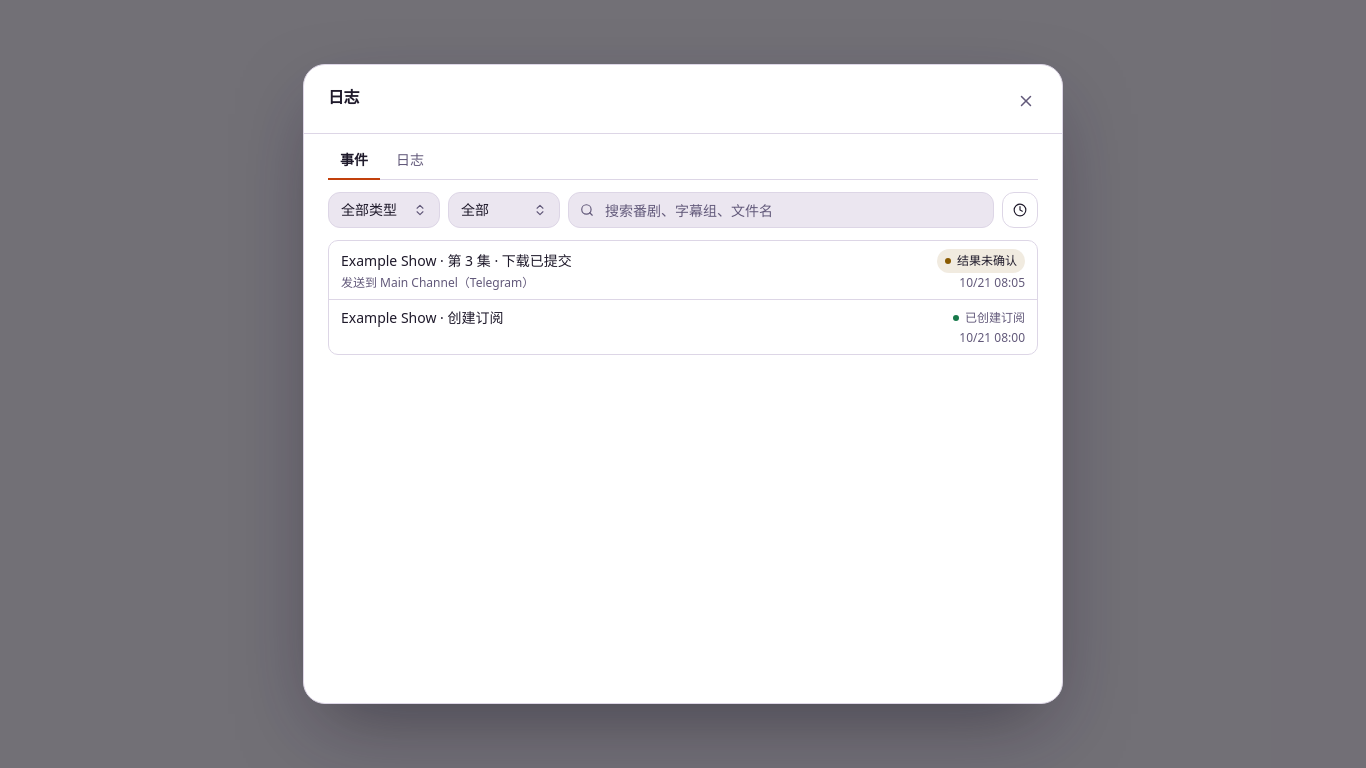
LogDialog › opens a compact delivery detail with the target name and rendered message
Click the button with aria-label "打开发送详情：下载已提交" at (456, 260), box [329,241,1037,299]
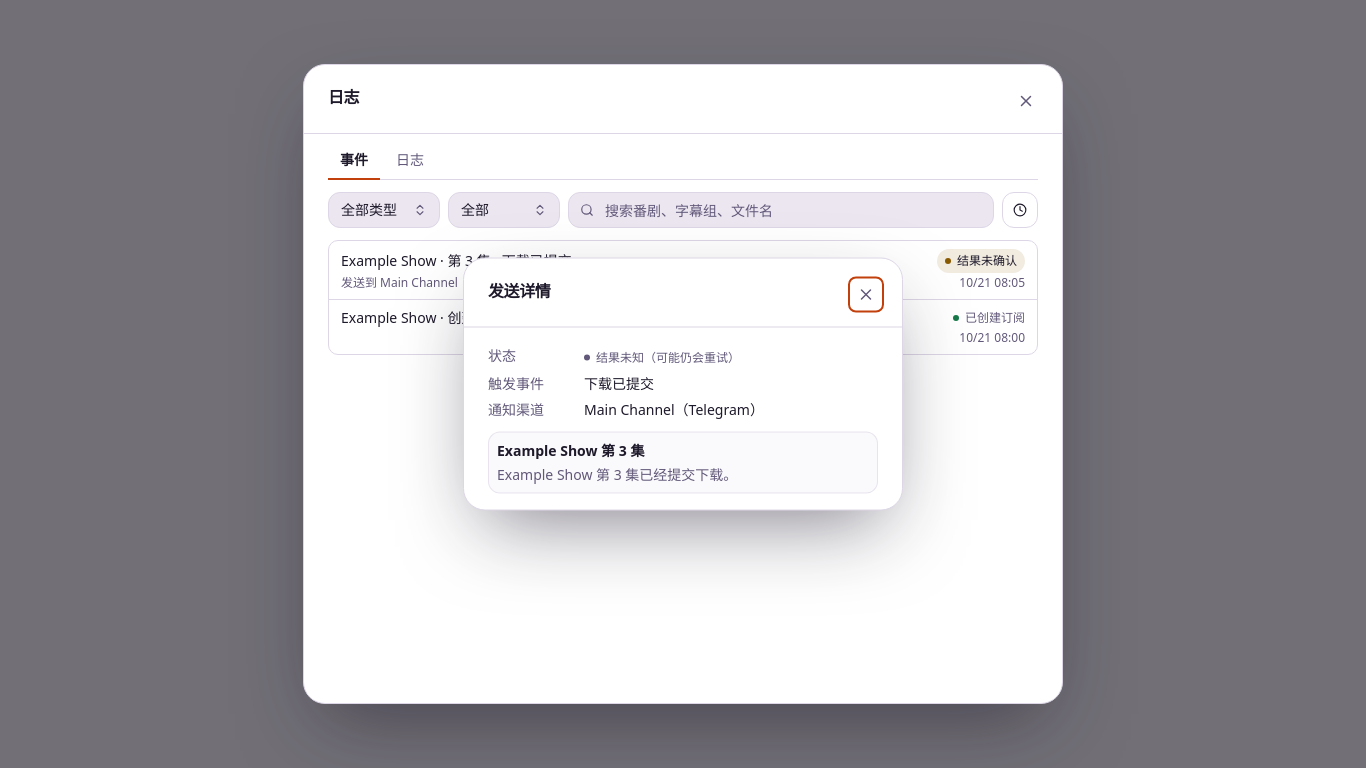
Now the text "Example Show 第 3 集" is shown, box [497,440,644,460]
Now the text "Main Channel（Telegram）" is shown, box [584,400,764,418]
Now the text "Example Show 第 3 集已经提交下载。" is shown, box [497,464,737,484]
